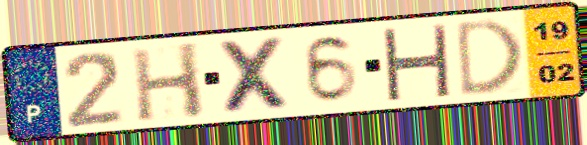2: (60, 49, 128, 130)
6: (300, 33, 361, 106)
D: (453, 16, 525, 100)
H: (127, 39, 208, 124), (378, 24, 453, 101)
X: (213, 34, 299, 116)
